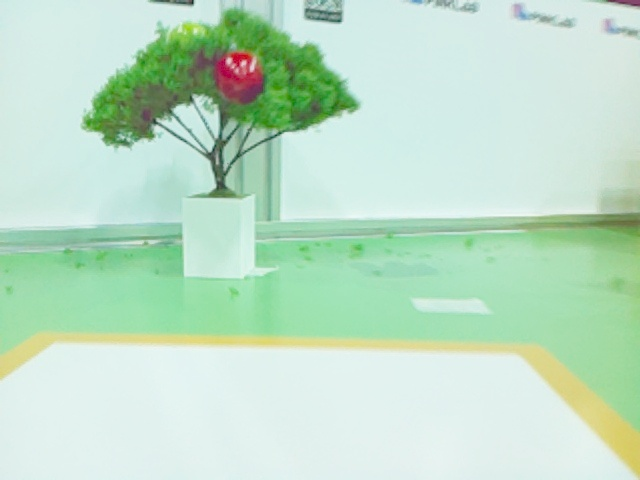apple: (210, 50, 268, 107)
